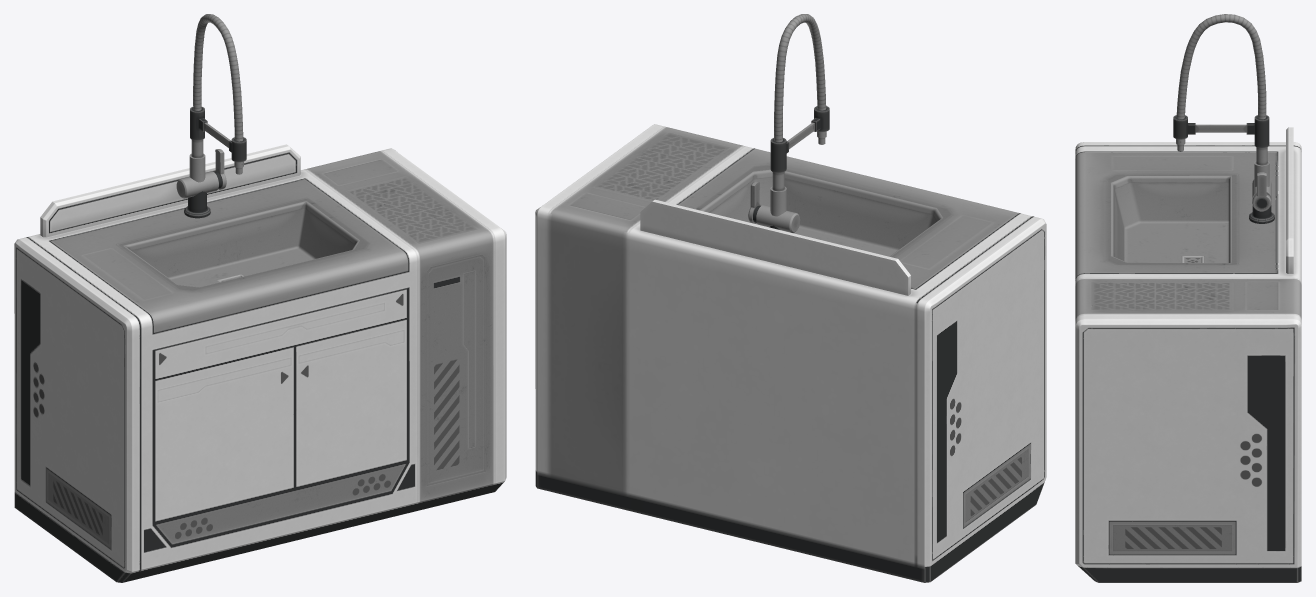
The model's file is MedSink01.FBX.
3 views of the same model, side by side, from view 1: azimuth 30°, elevation 25°; view 2: azimuth 150°, elevation 25°; view 3: azimuth 270°, elevation 25° (orthographic). The views are drawn at different scales.
Visible parts, largest first — view 1: MedSink01; view 2: MedSink01; view 3: MedSink01.
Boxes of the visible parts, <box> form: MedSink01: <box>14,14,506,582</box>; MedSink01: <box>535,14,1046,582</box>; MedSink01: <box>1075,14,1301,582</box>.
Size of what is drawn, in the model's own units: 1.33 by 1.6 by 0.7056.
